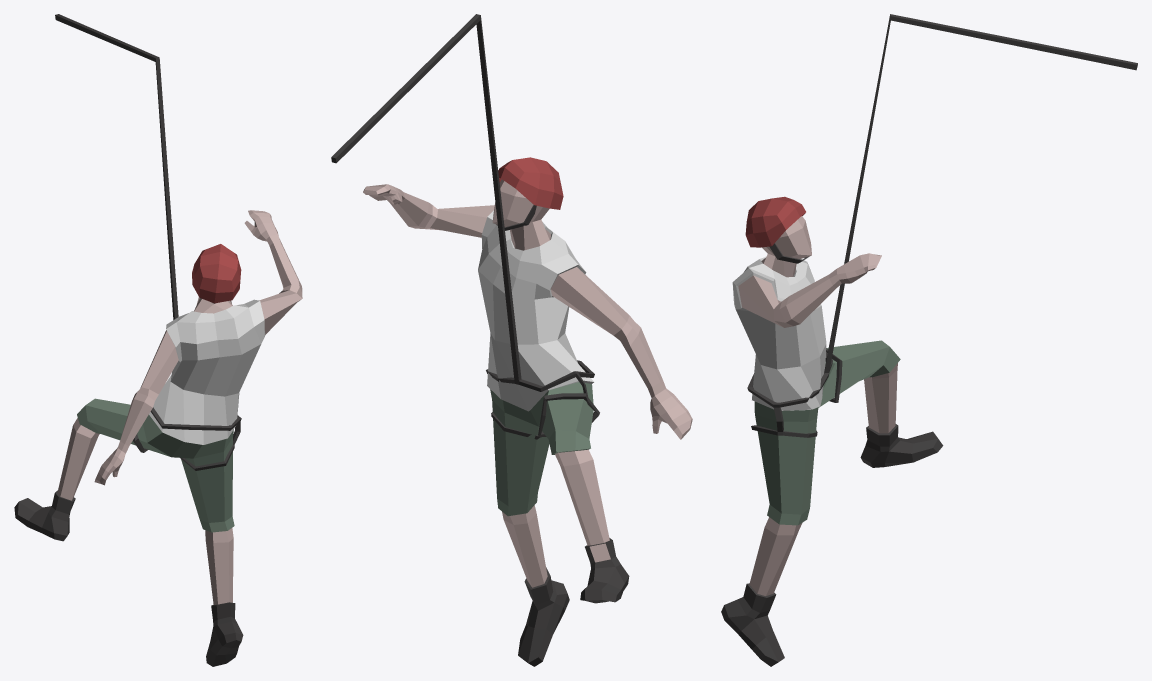
File: RockClimber.gltf
The picture shows the model from 3 angles, left to right: view 1: azimuth 30°, elevation 25°; view 2: azimuth 150°, elevation 25°; view 3: azimuth 270°, elevation 25°; orthographic projection. The views are drawn at different scales.
Visible parts, largest first — view 1: Model_climbing; view 2: Model_climbing; view 3: Model_climbing.
Part boxes in pixels (box(x1,y1,x2,y2)): Model_climbing: box(14, 14, 302, 666); Model_climbing: box(331, 14, 692, 666); Model_climbing: box(721, 14, 1137, 666).
Bounding box in the file's own units: 0.557 × 1.32 × 0.7723.
